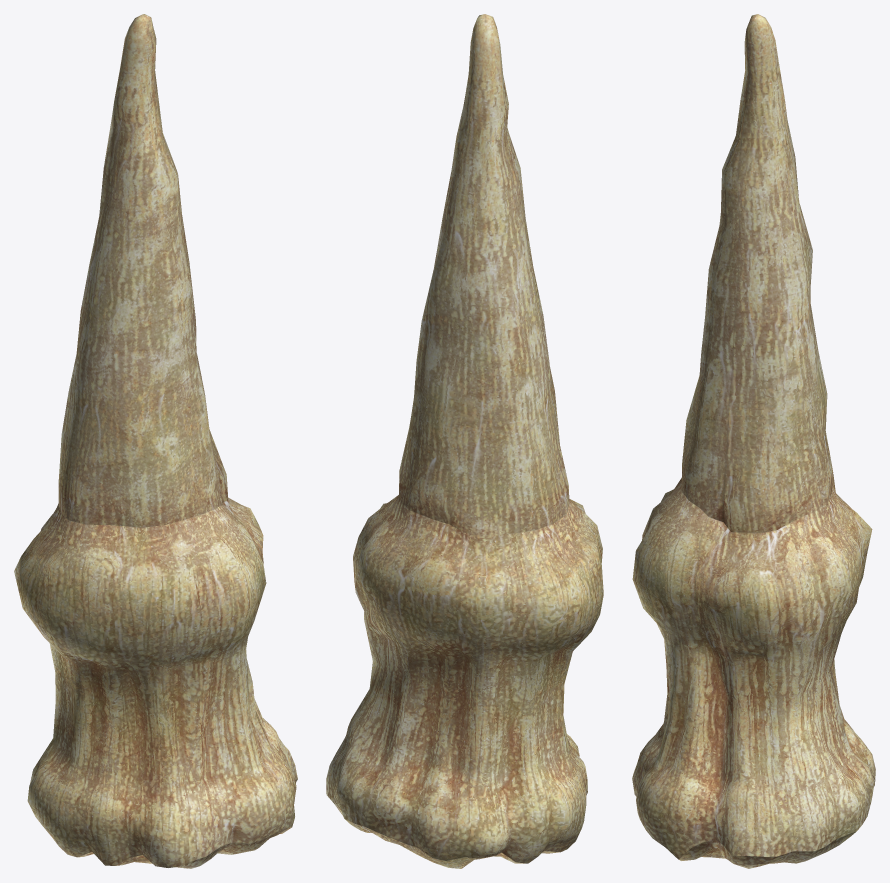
Rendered from cave_stalagmite_quality01.dae.
3 renders of one model, left to right at view 1: azimuth 30°, elevation 25°; view 2: azimuth 150°, elevation 25°; view 3: azimuth 270°, elevation 25°, orthographic. The views are drawn at different scales.
Parts seen in each view (by area): view 1: cave_stalagmite_quality01_; view 2: cave_stalagmite_quality01_; view 3: cave_stalagmite_quality01_.
Boxes of the visible parts, x1=… form: cave_stalagmite_quality01_: x1=14, y1=14, x2=297, y2=868; cave_stalagmite_quality01_: x1=326, y1=14, x2=603, y2=868; cave_stalagmite_quality01_: x1=632, y1=14, x2=875, y2=868.
Size of the model in its own units: 39.71 by 125 by 33.7.
